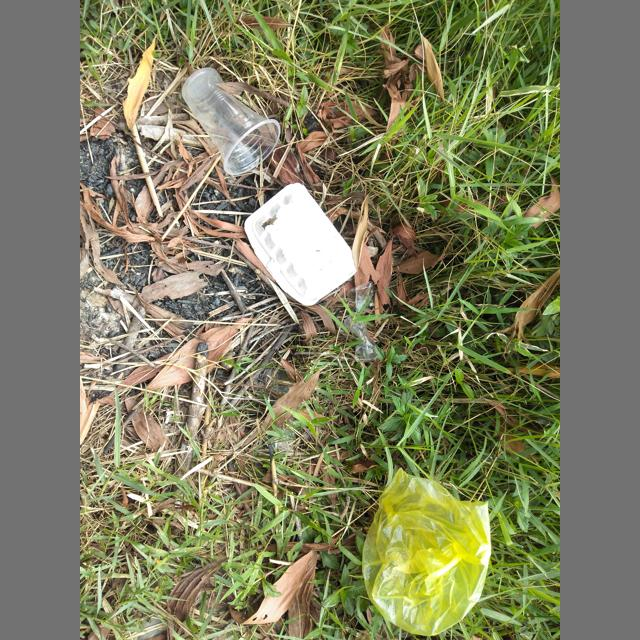litter: (362, 468, 491, 636), (244, 183, 357, 306), (182, 67, 281, 176), (344, 312, 377, 362), (347, 282, 379, 312)
